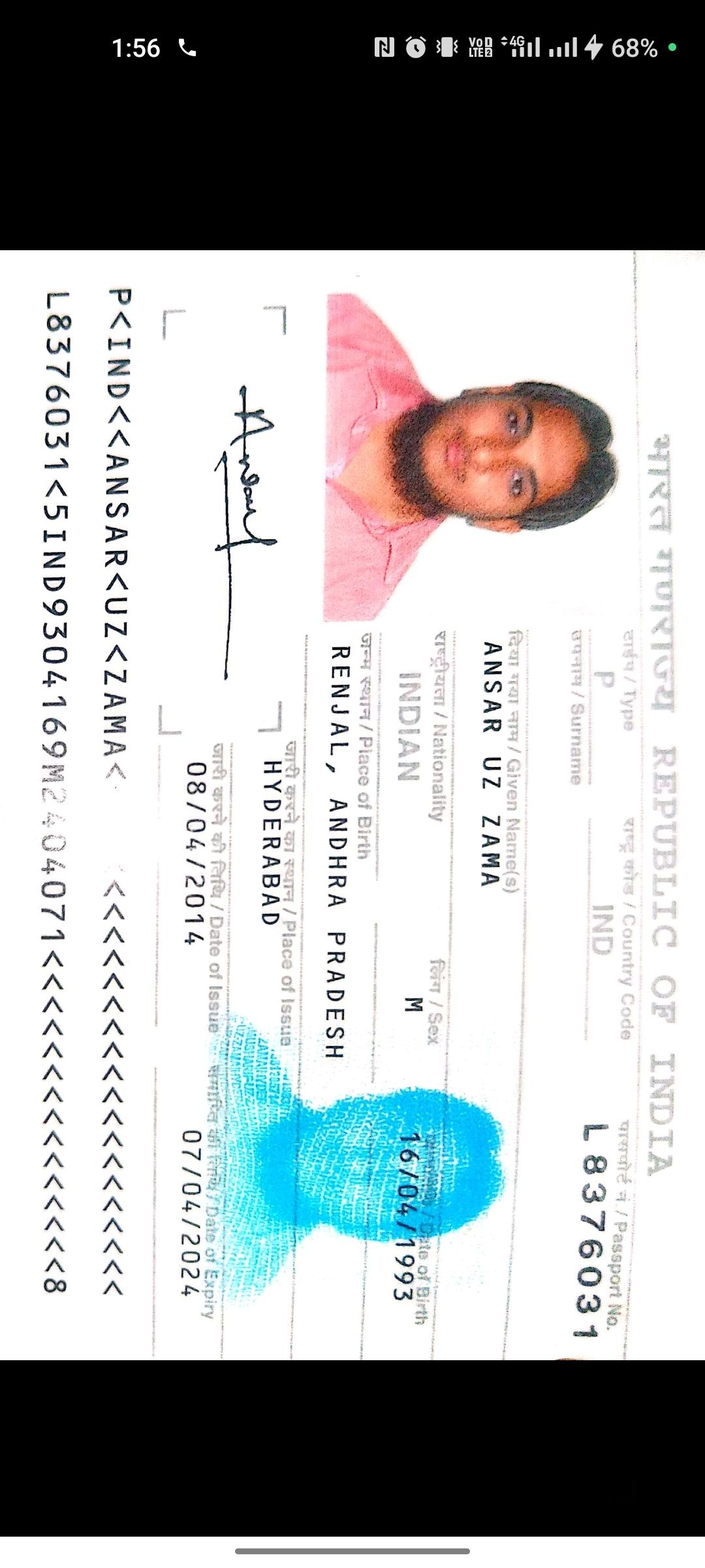DOB: (385, 1109, 424, 1317)
country_code: (582, 883, 618, 974)
date_of_expiry: (171, 1113, 208, 1304)
date_of_issue: (174, 747, 213, 955)
details: (30, 272, 136, 1319)
name: (466, 636, 507, 906)
nationality: (385, 662, 432, 795)
passport_no: (561, 1111, 620, 1363)
photo: (331, 296, 627, 616)
place_of_birth: (326, 642, 359, 1071)
place_of_issue: (247, 750, 288, 935)
sex: (397, 984, 428, 1026)
sign: (201, 367, 286, 651)
type: (590, 656, 622, 703)
